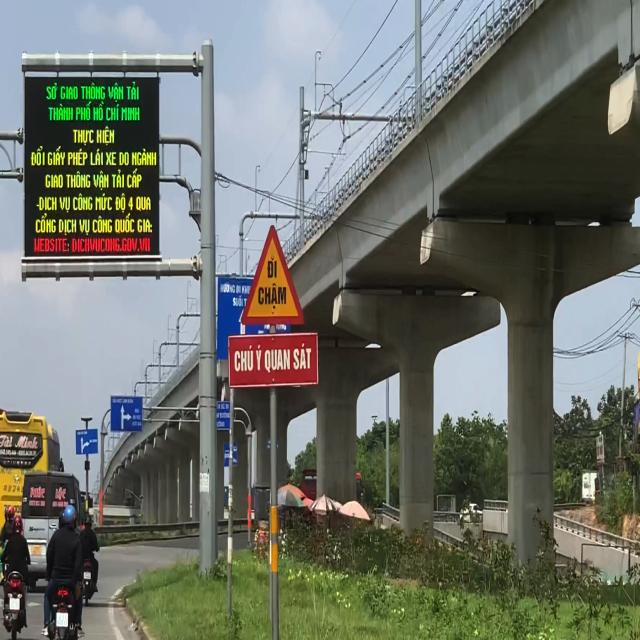Nguy hiem: (237, 219, 306, 329)
